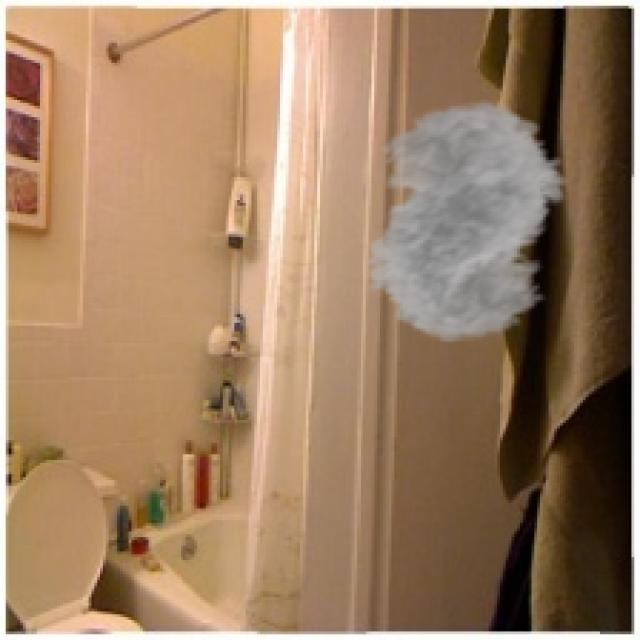smoke: (340, 100, 586, 343)
